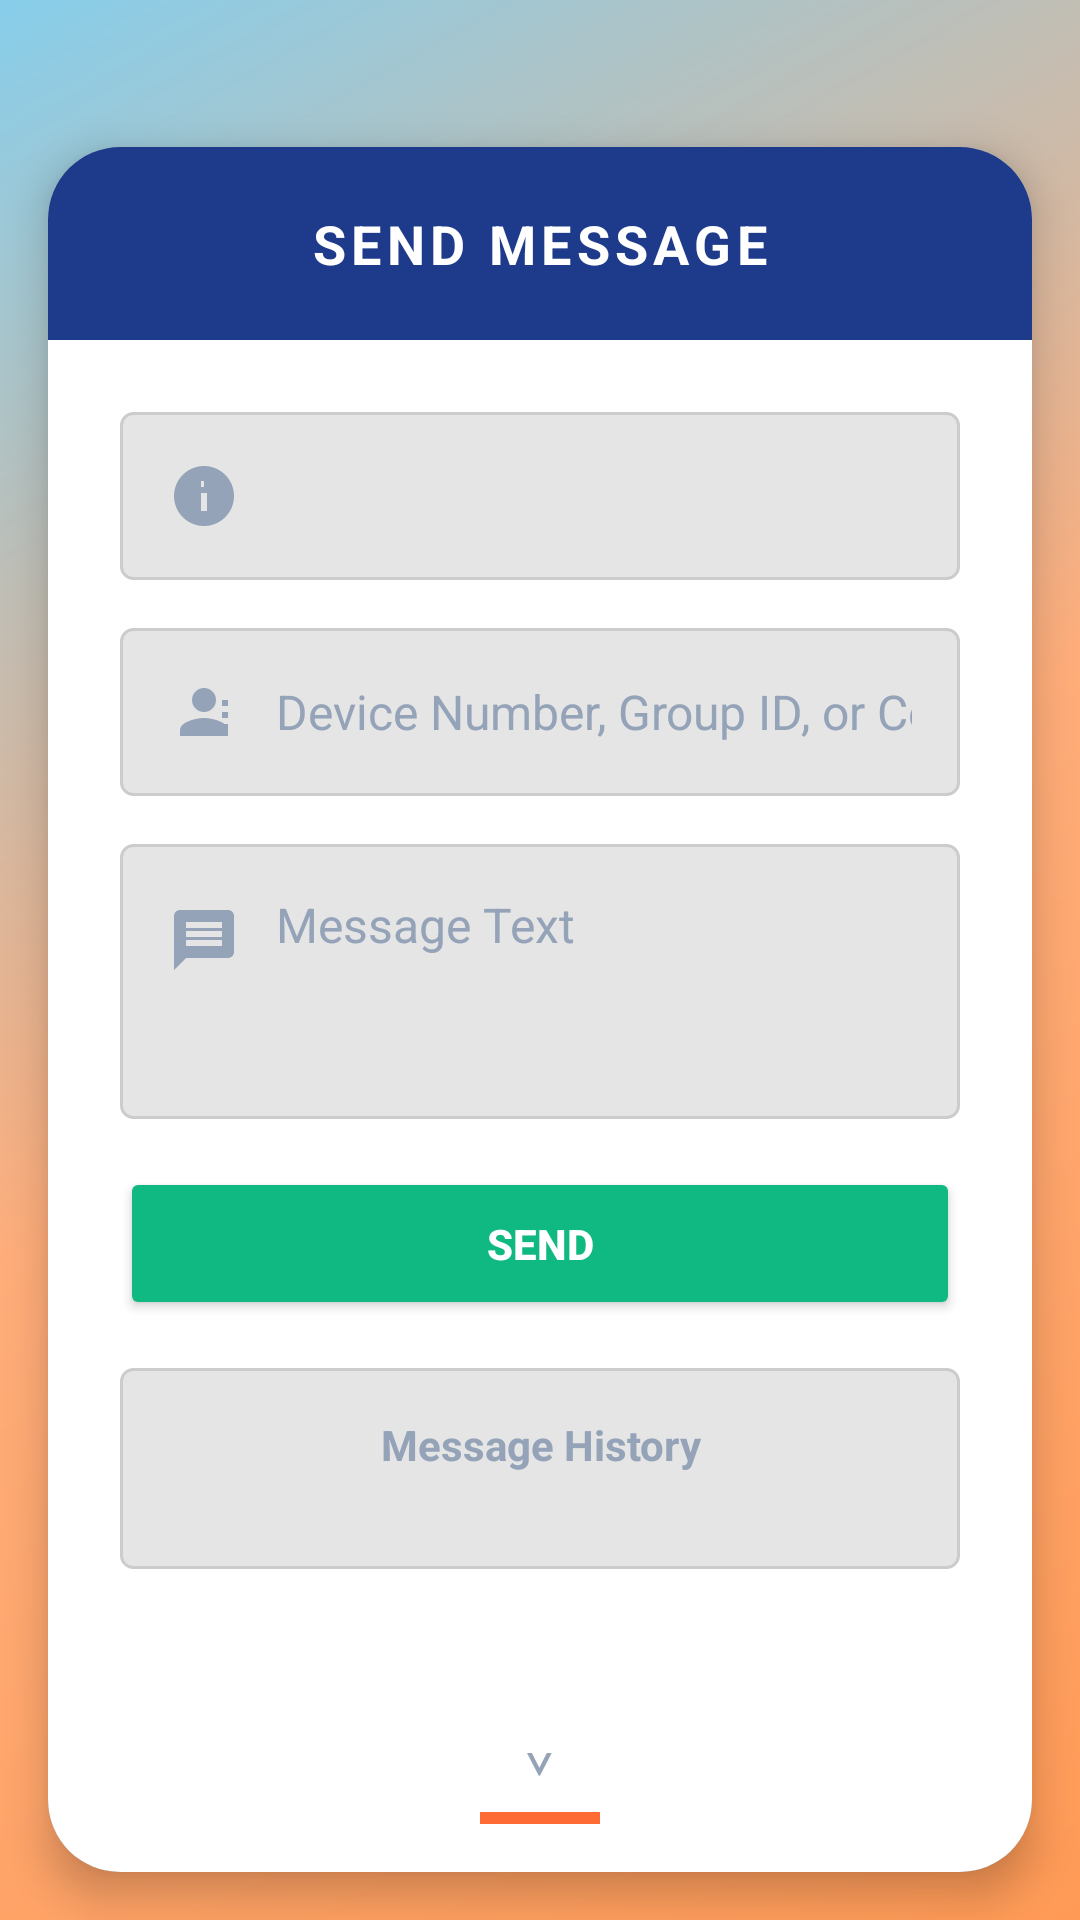

Icon click points for this 1080px x 1920px phone screenshot, format [x,y]:
Recipient ID icon: [204,712]
